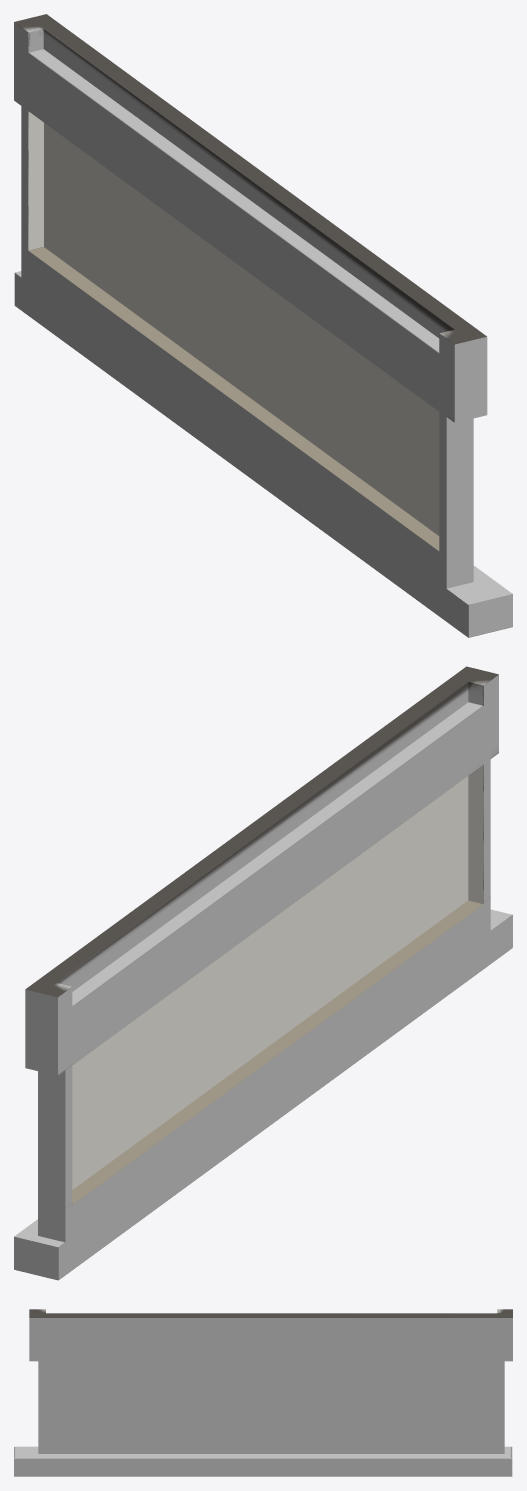
Rendered from replace_PoliceStationWall.FBX.
3 views of the same model, one above another, from view 1: azimuth 30°, elevation 25°; view 2: azimuth 150°, elevation 25°; view 3: azimuth 270°, elevation 25° (orthographic). The views are drawn at different scales.
Parts seen in each view (by area): view 1: police_station_wall_right_002; view 2: police_station_wall_right_002; view 3: police_station_wall_right_002.
Part boxes in pixels (left/top/right/bottom): police_station_wall_right_002: left=14, top=14, right=512, bottom=637; police_station_wall_right_002: left=14, top=666, right=512, bottom=1280; police_station_wall_right_002: left=14, top=1309, right=512, bottom=1476.
Bounding box in the file's own units: 232 × 1410 × 4102.
1 material, 1 textured.
